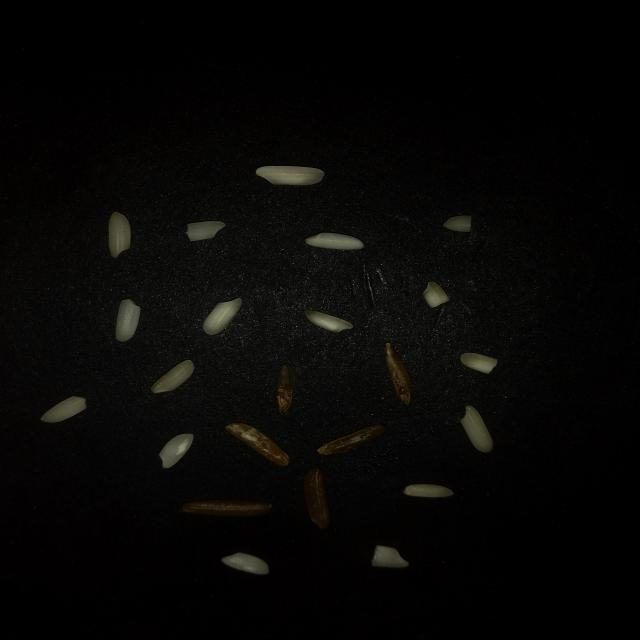Broken: (224, 422, 290, 466), (316, 423, 386, 455), (383, 342, 412, 405), (303, 467, 330, 529), (182, 499, 272, 517), (41, 396, 87, 422), (276, 364, 295, 415), (185, 220, 226, 242), (371, 545, 410, 568), (460, 352, 498, 374), (422, 281, 450, 308), (443, 215, 472, 232)
Full: (461, 405, 494, 453), (151, 359, 195, 394), (203, 297, 242, 335), (256, 166, 324, 186), (158, 433, 194, 468), (304, 310, 354, 333), (305, 232, 364, 250), (109, 211, 131, 259), (222, 552, 270, 574), (116, 299, 140, 342), (403, 483, 454, 498)
